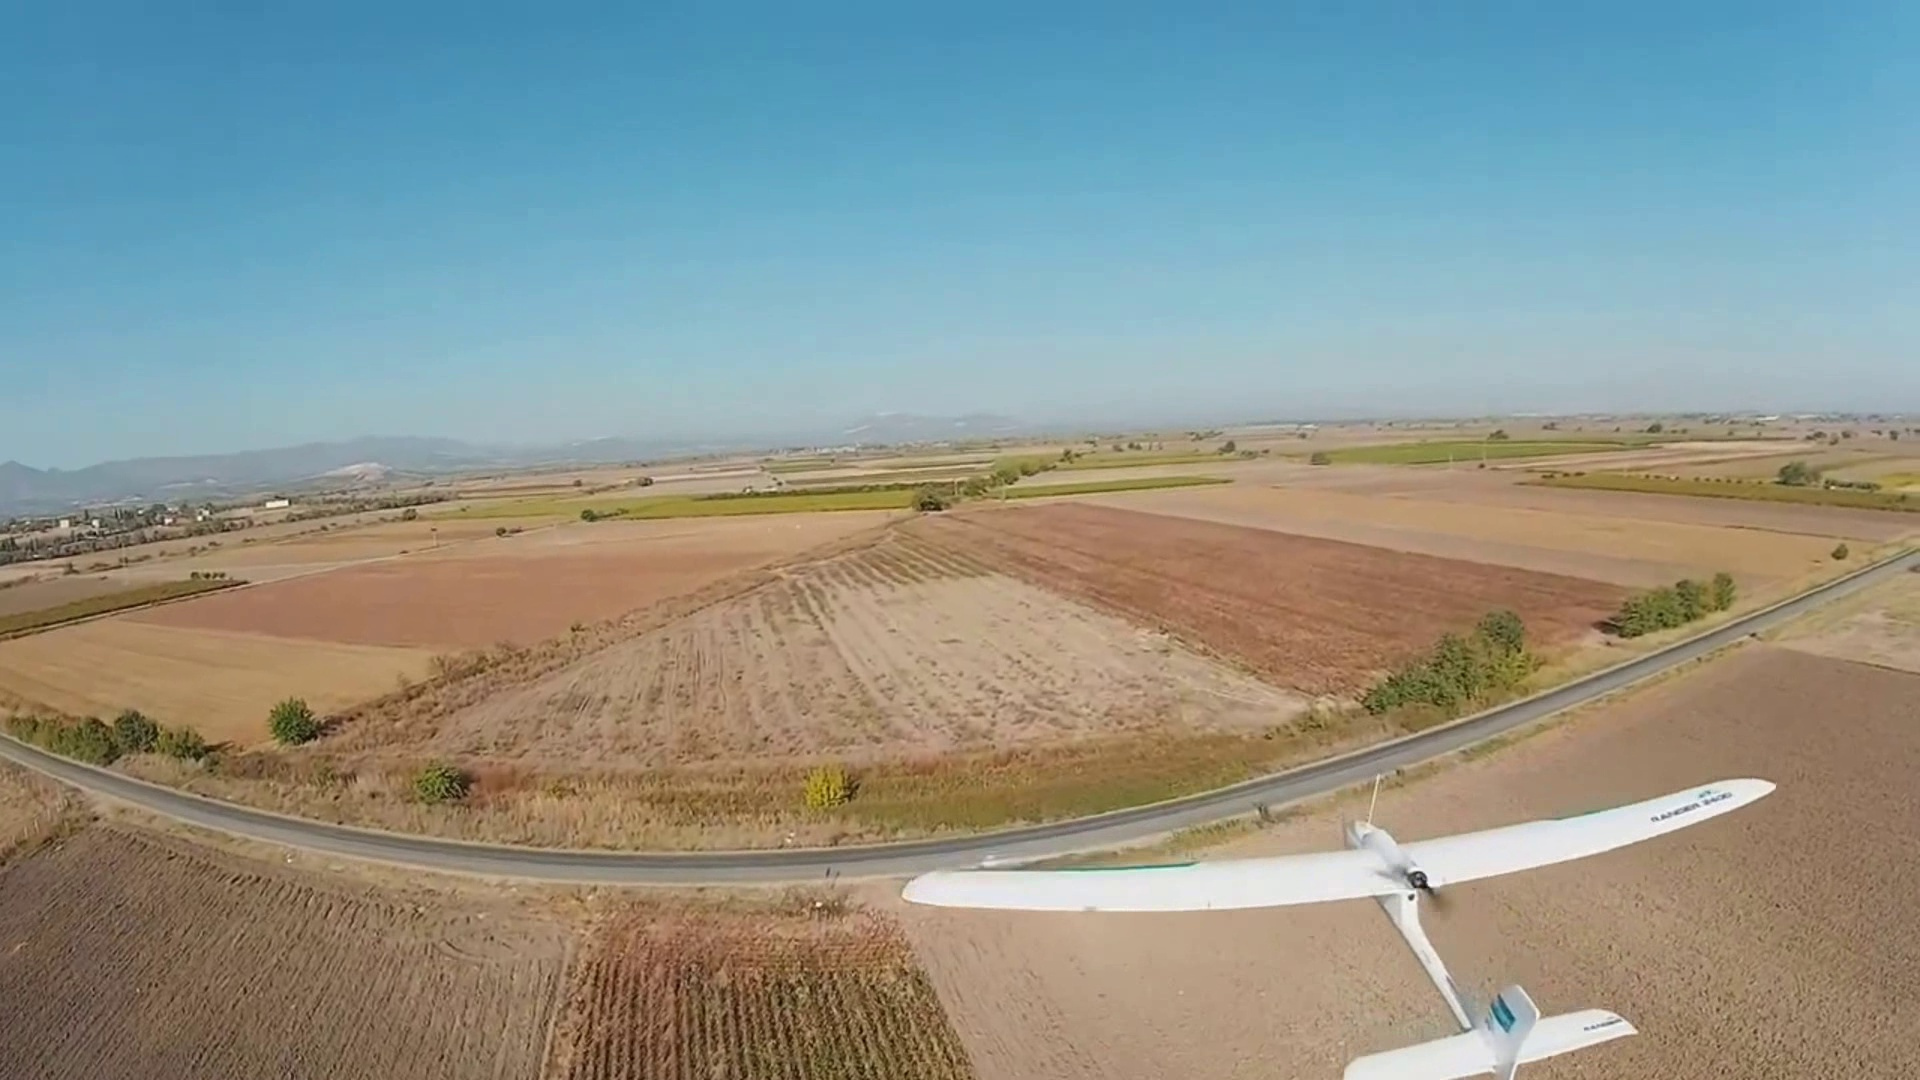airplane: (7, 622, 1890, 1075)
